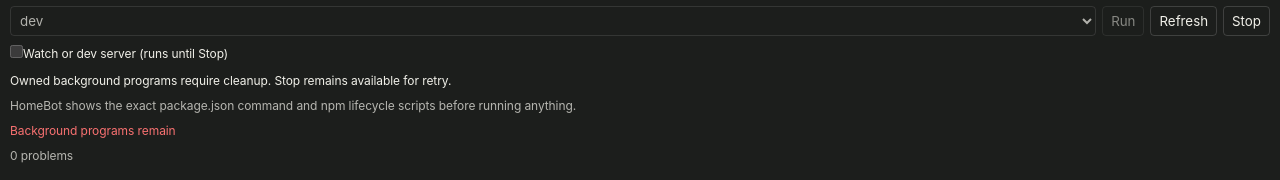
Test case: completed background cleanup restores reachable Stop and refuses Run until the same task retry succeeds
The image size is (1280, 180).
Check: the button "Run" is disabled, box left=1102, top=6, right=1144, bottom=36
Click the button "Stop".
click(1247, 21)  # box left=1223, top=6, right=1270, bottom=36
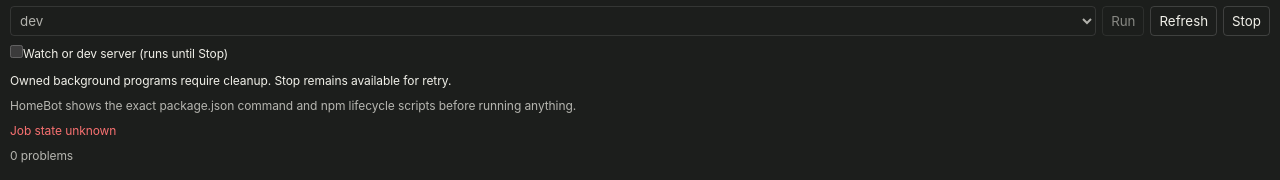
Check: the message "Job state unknown" is shown, box left=10, top=123, right=116, bottom=138
Click the button "Stop".
click(1247, 21)  # box left=1223, top=6, right=1270, bottom=36
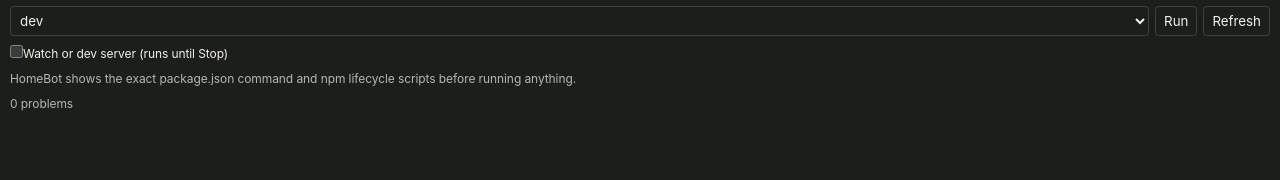
Check: the button "Run" is enabled, box left=1155, top=6, right=1197, bottom=36
Check: the message "Owned background programs require cleanup. Stop remains available for retry." is gone
